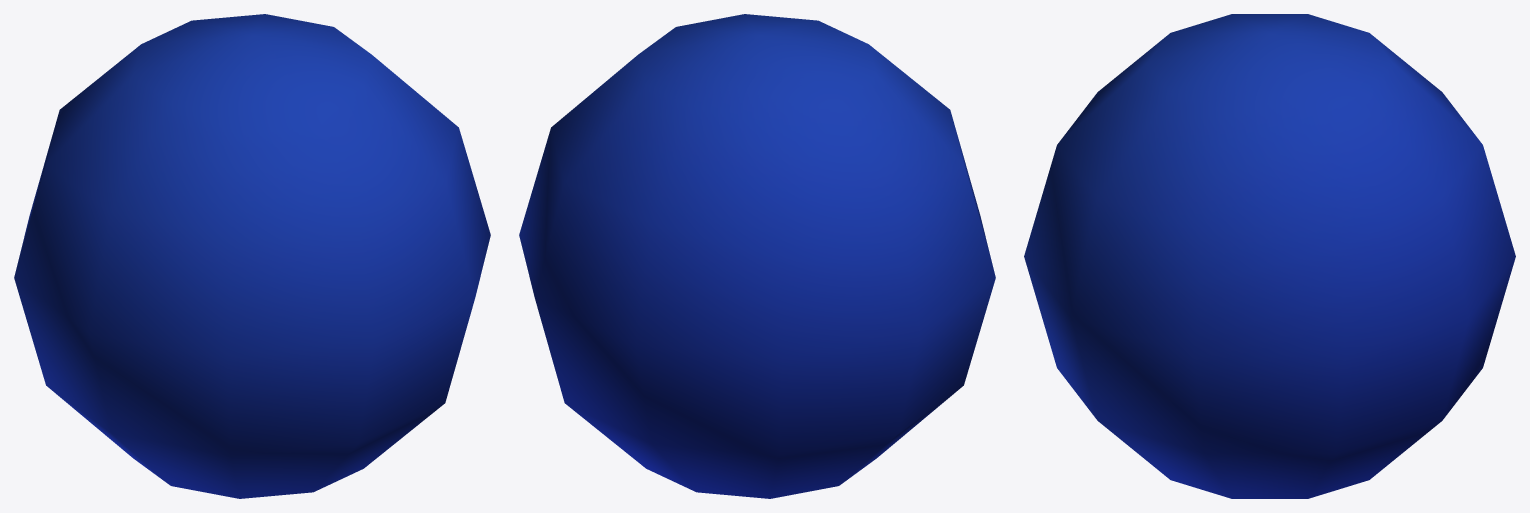
File: Perso_Main.fbx
3 renders of one model, left to right at view 1: azimuth 30°, elevation 25°; view 2: azimuth 150°, elevation 25°; view 3: azimuth 270°, elevation 25°, orthographic.
Parts seen in each view (by area): view 1: Perso_Main; view 2: Perso_Main; view 3: Perso_Main.
Part boxes in pixels (x1,y1,x2,y2): Perso_Main: (14, 14, 490, 498); Perso_Main: (519, 14, 995, 498); Perso_Main: (1024, 14, 1515, 498).
Size of the model in its own units: 51.85 by 54.52 by 54.52.
